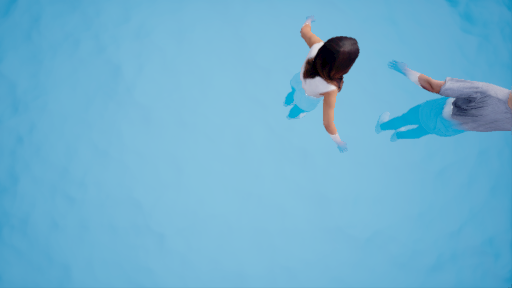person: (287, 17, 367, 167), (387, 60, 512, 144)
